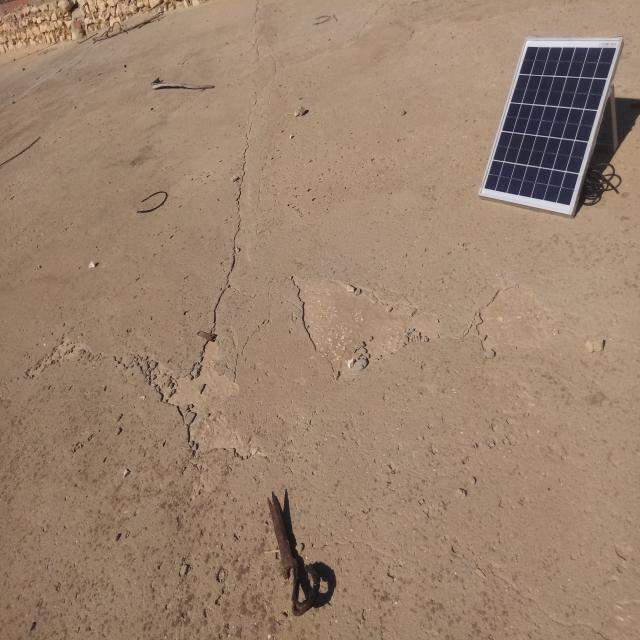no faulty: (479, 38, 623, 215)
